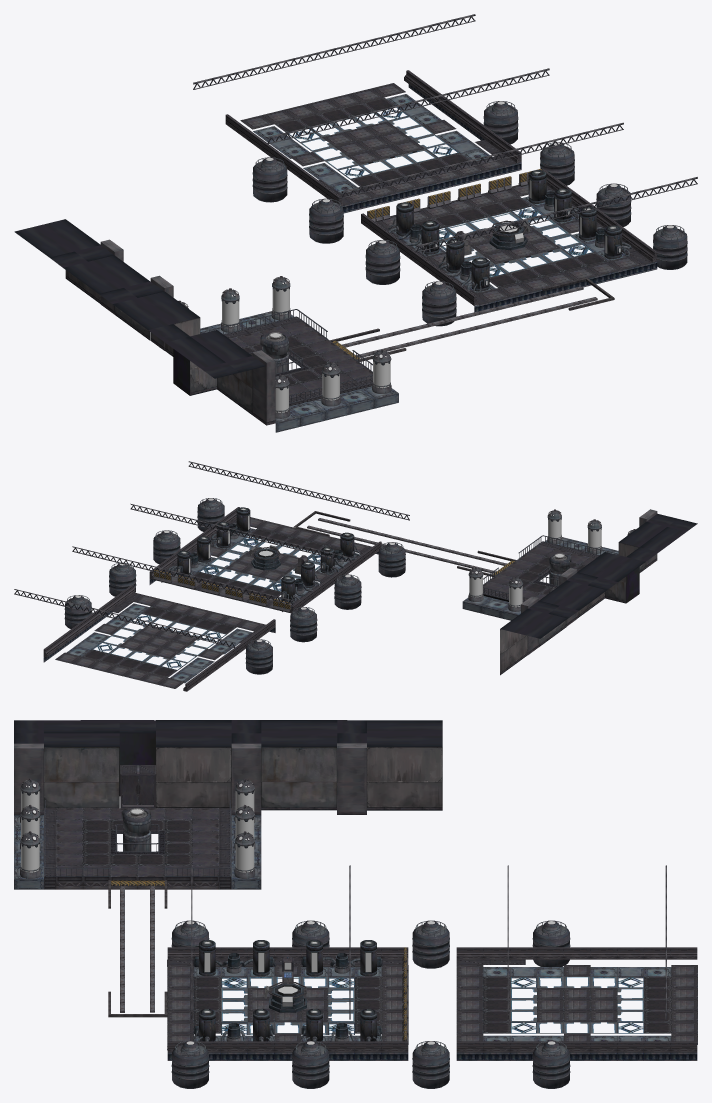
The model's file is Lab.fbx.
The picture shows the model from 3 angles, top to bottom: view 1: azimuth 30°, elevation 25°; view 2: azimuth 150°, elevation 25°; view 3: azimuth 270°, elevation 25°; orthographic projection. The views are drawn at different scales.
Visible parts, largest first — view 1: IMG_6006.006, IMG_6006.003, IMG_6006.005; view 2: IMG_6006.006, IMG_6006.003, IMG_6006.005; view 3: IMG_6006.006, IMG_6006.005, IMG_6006.003.
Part boxes in pixels (left/top/right/bottom): IMG_6006.006: left=14, top=70, right=687, bottom=432; IMG_6006.003: left=193, top=14, right=697, bottom=252; IMG_6006.005: left=185, top=101, right=673, bottom=412; IMG_6006.006: left=43, top=498, right=697, bottom=691; IMG_6006.003: left=14, top=461, right=409, bottom=648; IMG_6006.005: left=75, top=498, right=630, bottom=609; IMG_6006.006: left=14, top=720, right=697, bottom=1088; IMG_6006.005: left=21, top=782, right=555, bottom=1044; IMG_6006.003: left=191, top=865, right=666, bottom=1019.
Bounding box in the file's own units: 18179 × 2463 × 17823.
